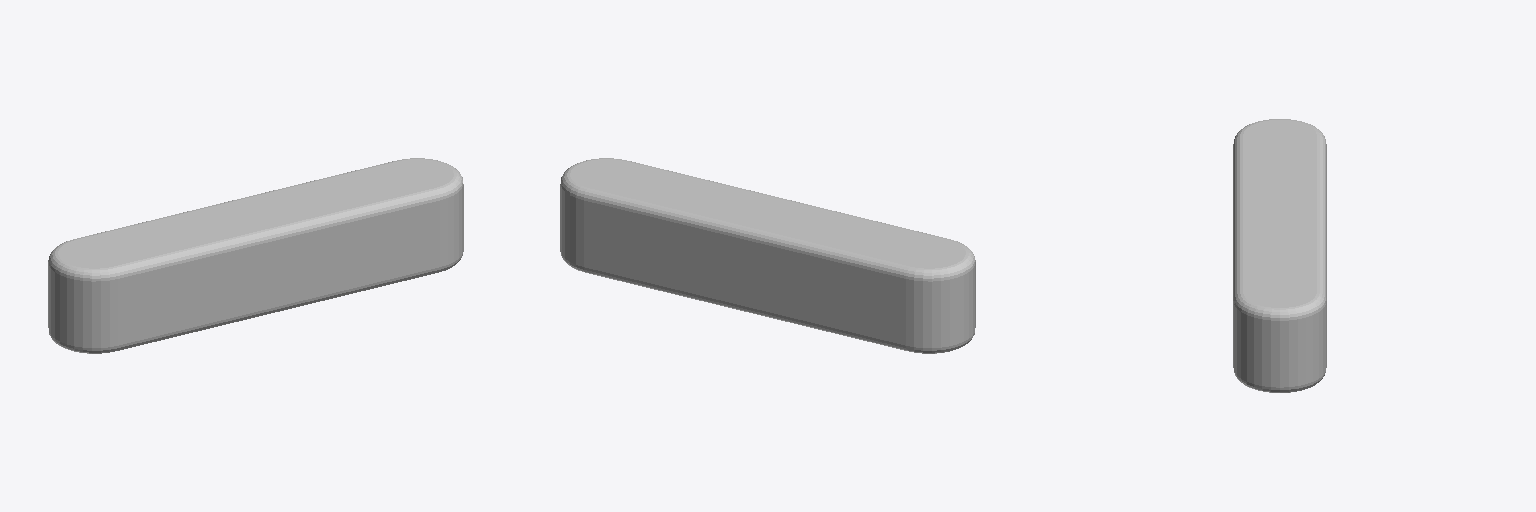
File: brac_2.obj
3 renders of one model, left to right at view 1: azimuth 30°, elevation 25°; view 2: azimuth 150°, elevation 25°; view 3: azimuth 270°, elevation 25°, orthographic.
Parts seen in each view (by area): view 1: SimLab_Auto_bra_2Object0; view 2: SimLab_Auto_bra_2Object0; view 3: SimLab_Auto_bra_2Object0.
Boxes of the visible parts, <box> form: SimLab_Auto_bra_2Object0: <box>48,158,463,353</box>; SimLab_Auto_bra_2Object0: <box>560,158,975,353</box>; SimLab_Auto_bra_2Object0: <box>1233,119,1326,392</box>.
Bounding box in the file's own units: 0.24 × 0.048 × 0.048.